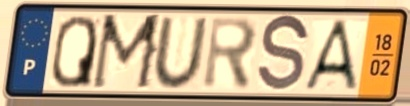A: (300, 17, 361, 93)
M: (88, 12, 166, 93)
Q: (49, 13, 99, 90)
R: (200, 14, 260, 93)
S: (254, 12, 312, 97)
U: (151, 15, 211, 91)
